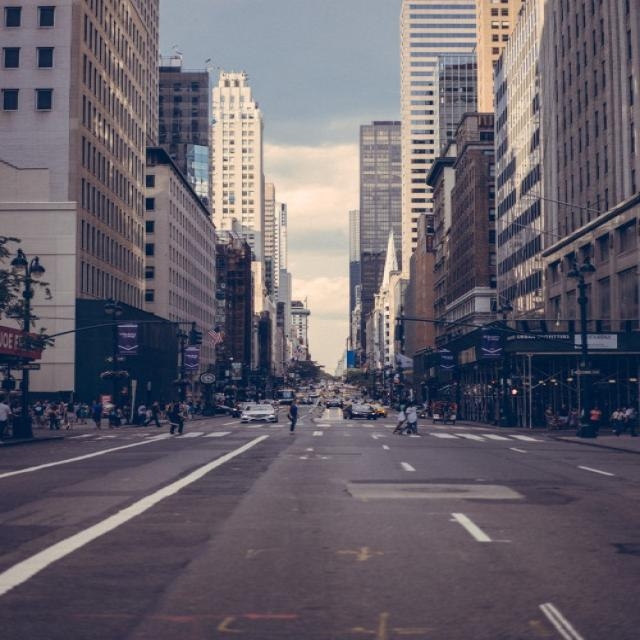body: (4, 398, 91, 428), (338, 374, 398, 408), (278, 374, 339, 404), (612, 403, 639, 438), (164, 398, 202, 421), (390, 405, 415, 435), (0, 394, 13, 446), (284, 400, 301, 436), (168, 403, 187, 435), (403, 402, 421, 435), (144, 398, 162, 428), (608, 407, 627, 434), (46, 403, 64, 431), (111, 400, 132, 424), (30, 400, 48, 427), (102, 400, 118, 430), (587, 404, 603, 434), (63, 401, 77, 431), (91, 399, 104, 430), (436, 401, 454, 423), (134, 401, 148, 427), (420, 398, 435, 419), (567, 406, 581, 428), (542, 404, 556, 419), (618, 402, 631, 416)
